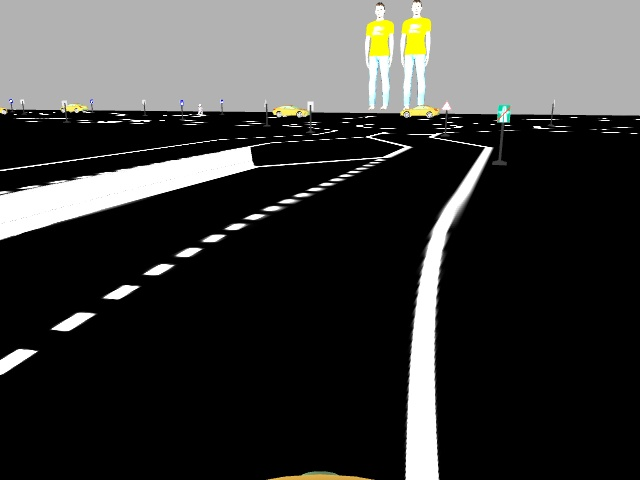HighwayExit: (495, 102, 512, 123)
